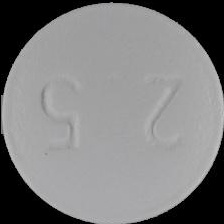16590-396: (0, 0, 224, 224)
